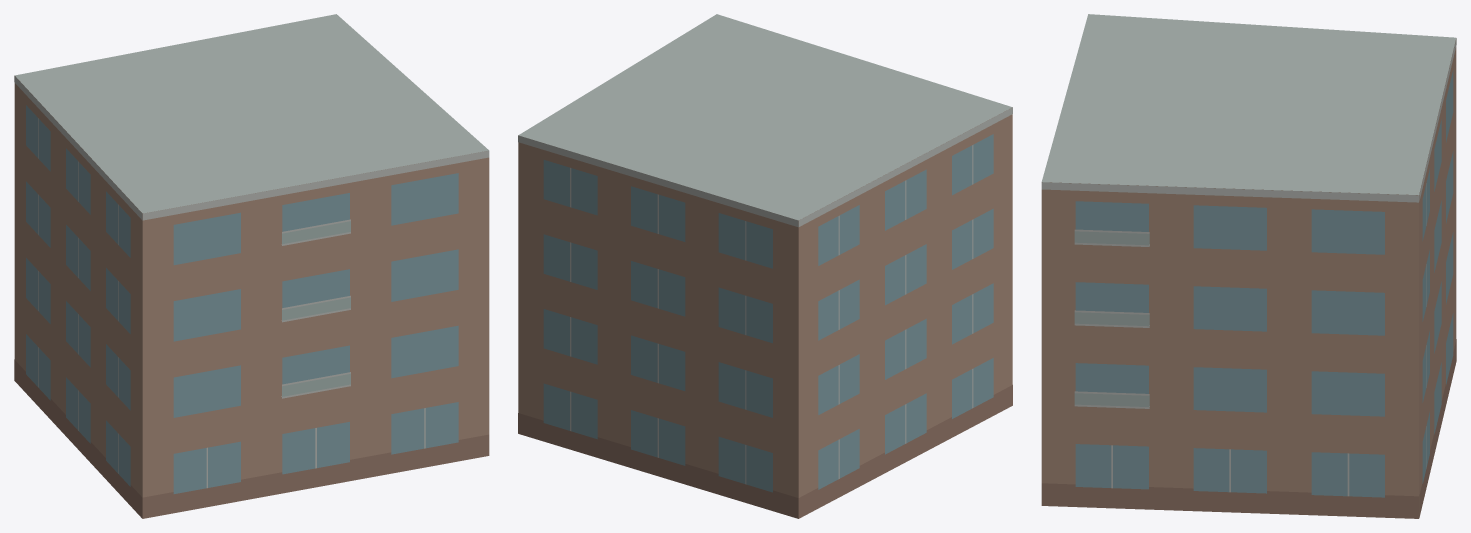
The model's file is survey-upis-32492729.glb.
3 views of the same model, side by side, from view 1: azimuth 30°, elevation 25°; view 2: azimuth 150°, elevation 25°; view 3: azimuth 270°, elevation 25° (orthographic). The views are drawn at different scales.
Parts seen in each view (by area): view 1: survey-upis-32492729.tmp; view 2: survey-upis-32492729.tmp; view 3: survey-upis-32492729.tmp.
Boxes of the visible parts, <box> form: survey-upis-32492729.tmp: <box>14,14,489,518</box>; survey-upis-32492729.tmp: <box>518,14,1012,518</box>; survey-upis-32492729.tmp: <box>1041,14,1456,518</box>.
Bounding box in the file's own units: 12.79 × 10.65 × 12.38.
